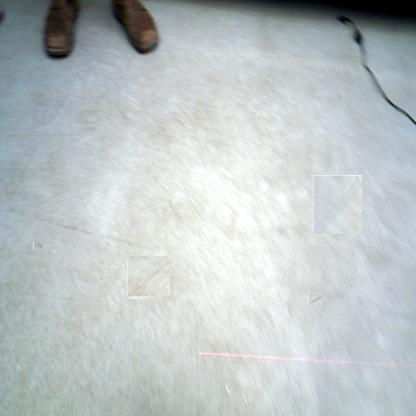mark: (313, 175, 362, 234), (129, 257, 169, 298), (310, 294, 322, 307), (34, 241, 43, 250)
